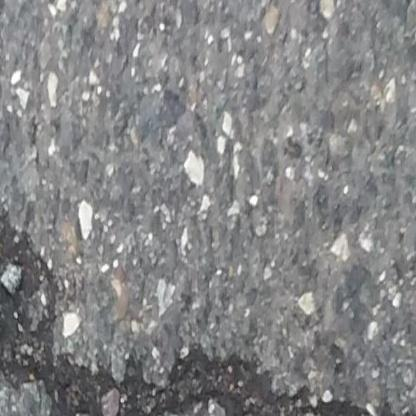Cracks: (0, 201, 416, 416)
